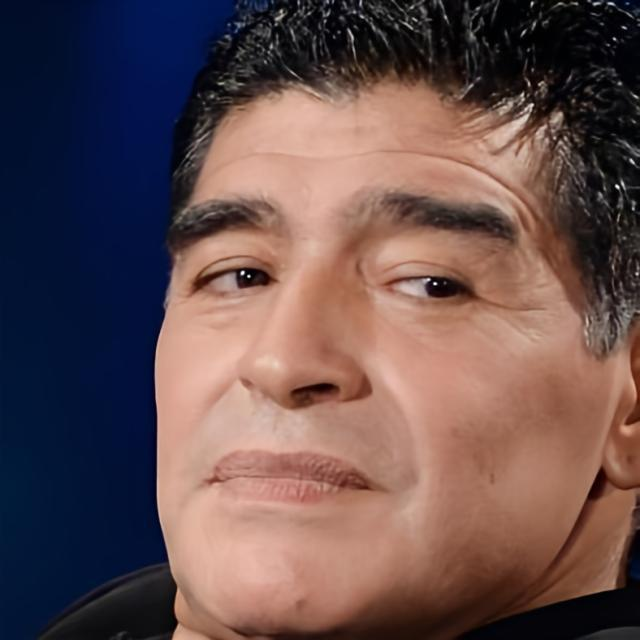sad: (150, 74, 603, 640)
